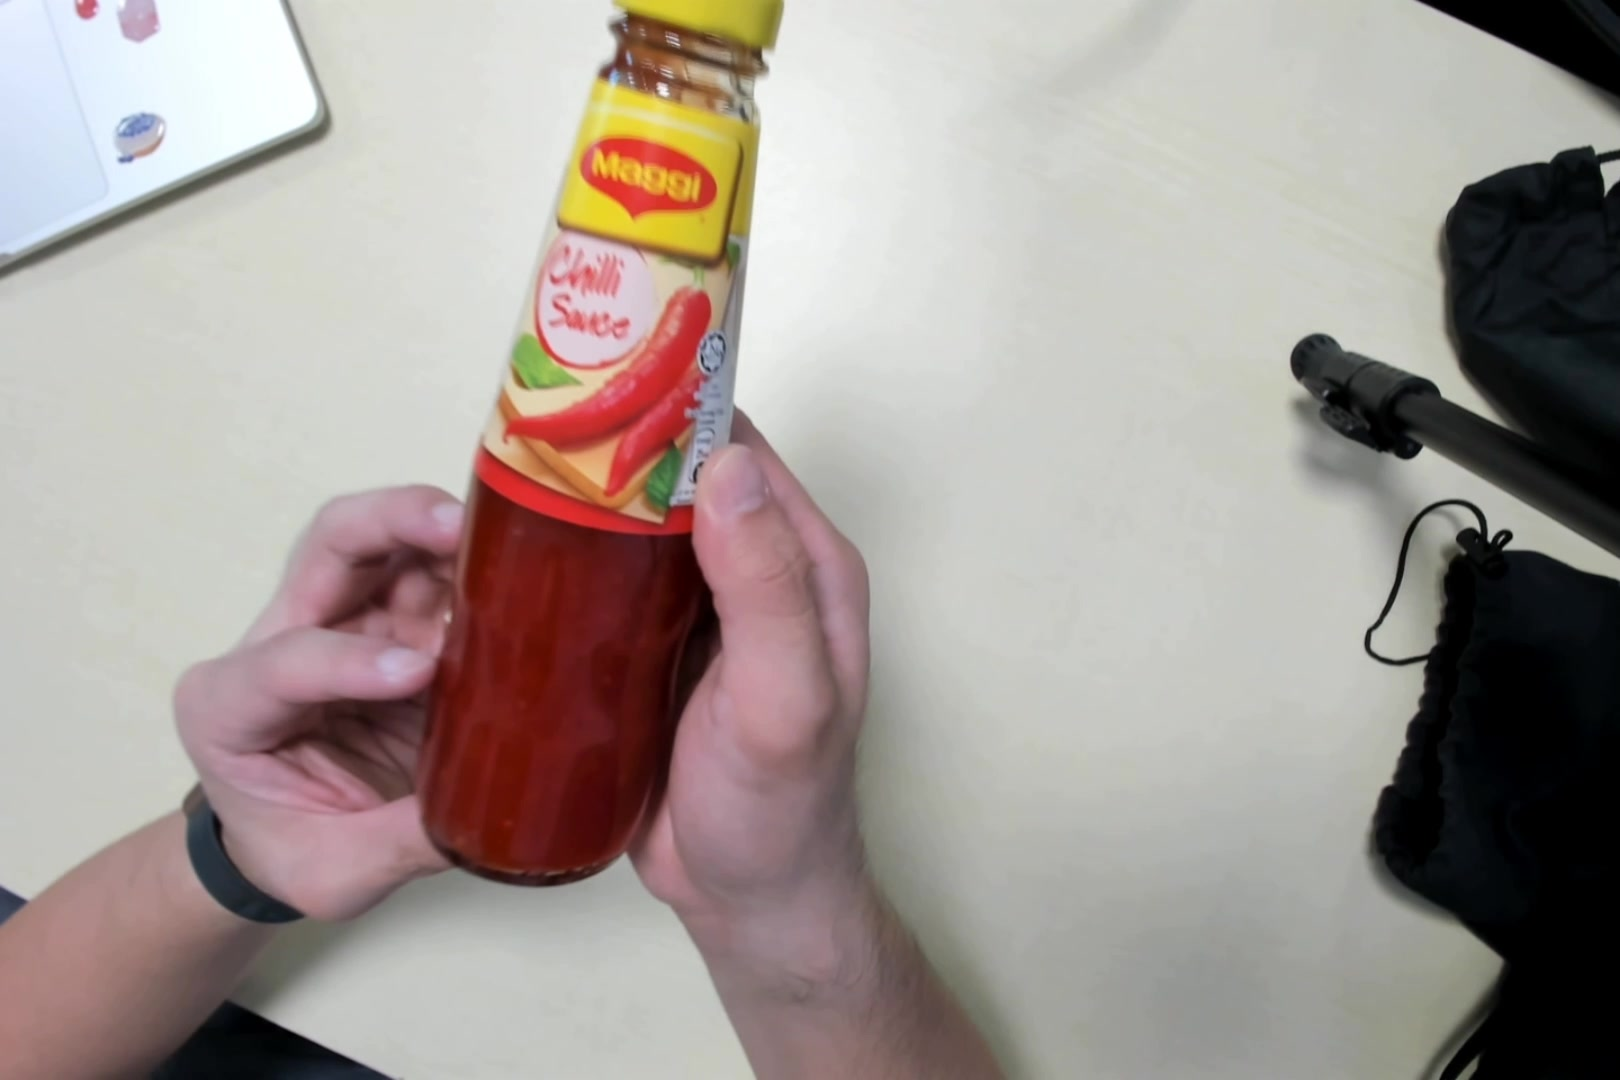KetchupChillSauce_300-399g_Halal_NonHealthy: (433, 1, 782, 893)
